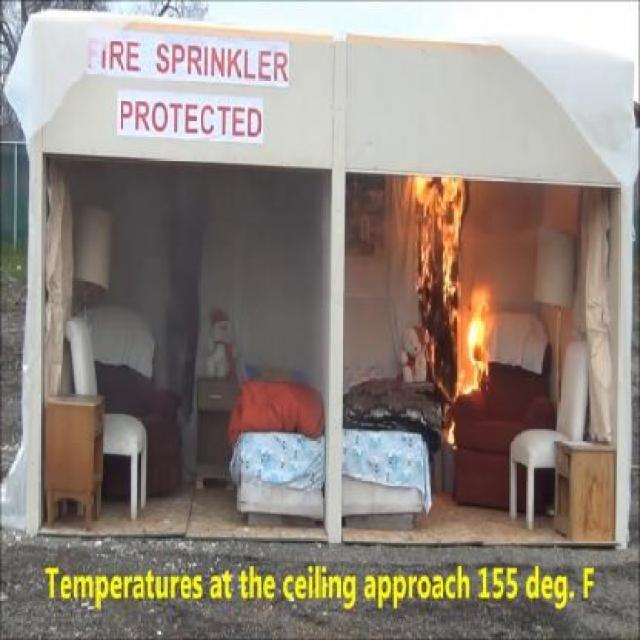fire: (396, 142, 496, 450)
smoke: (71, 103, 234, 459)
